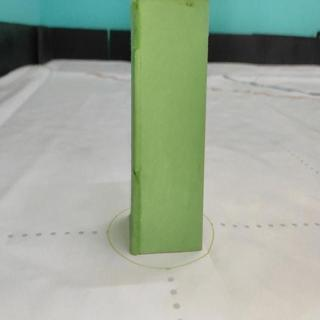greenbox: (128, 0, 207, 254)
